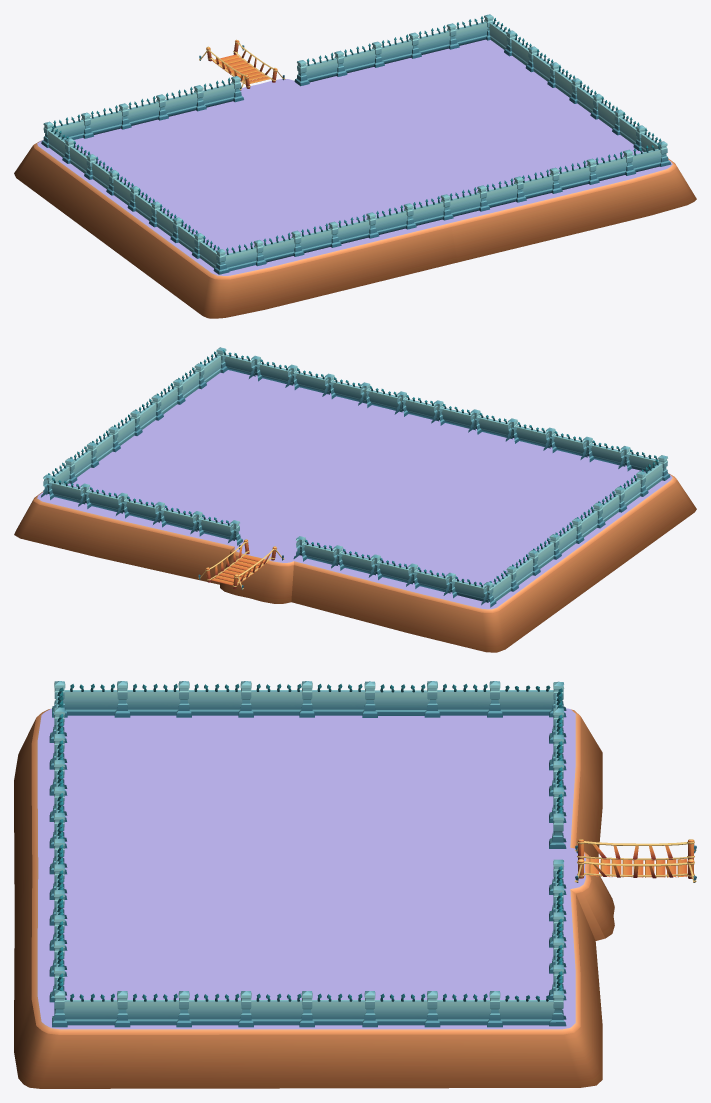
Rendered from HUB_floor_scaled_v01.fbx.
3 views of the same model, one above another, from view 1: azimuth 30°, elevation 25°; view 2: azimuth 150°, elevation 25°; view 3: azimuth 270°, elevation 25° (orthographic). The views are drawn at different scales.
Parts seen in each view (by area): view 1: HUB_floor_v02, Bridge, Walls_.006, Walls_.001, Walls_.003, Walls_.008, Walls_.029, Walls_.031, Walls_.002, Walls_.027, Walls_.005, Walls_.028 (+28 smaller); view 2: HUB_floor_v02, Bridge, Walls_.001, Walls_.006, Walls_.003, Walls_.005, Walls_.008, Walls_.010, Walls_.002, Walls_.029, Walls_.035, Walls_.031 (+27 smaller); view 3: HUB_floor_v02, Bridge, Walls_.026, Walls_.022, Walls_.014, Walls_.020, Walls_.013, Walls_.019, Walls_.012, Walls_.021, Walls_.016, Walls_.011 (+8 smaller).
Part boxes in pixels (<box>): HUB_floor_v02: <box>14,39,696,318</box>; Bridge: <box>199,39,285,90</box>; Walls_.006: <box>294,50,347,86</box>; Walls_.001: <box>41,112,93,147</box>; Walls_.003: <box>164,85,206,116</box>; Walls_.008: <box>417,23,459,54</box>; Walls_.029: <box>337,212,379,243</box>; Walls_.031: <box>262,230,304,262</box>; Walls_.002: <box>202,76,243,107</box>; Walls_.027: <box>224,240,266,271</box>; Walls_.005: <box>89,103,131,134</box>; Walls_.028: <box>375,203,416,234</box>; HUB_floor_v02: <box>14,370,696,652</box>; Bridge: <box>198,539,284,589</box>; Walls_.001: <box>443,572,496,607</box>; Walls_.006: <box>190,511,242,545</box>; Walls_.003: <box>331,545,375,575</box>; Walls_.005: <box>406,563,450,593</box>; Walls_.008: <box>78,483,122,513</box>; Walls_.010: <box>153,501,197,531</box>; Walls_.002: <box>293,536,337,565</box>; Walls_.029: <box>505,418,550,448</box>; Walls_.035: <box>249,355,293,385</box>; Walls_.031: <box>580,436,625,466</box>; HUB_floor_v02: <box>14,708,614,1088</box>; Bridge: <box>574,839,696,882</box>; Walls_.026: <box>52,991,118,1027</box>; Walls_.022: <box>299,991,366,1027</box>; Walls_.014: <box>299,681,366,717</box>; Walls_.020: <box>424,991,491,1027</box>; Walls_.013: <box>362,681,429,717</box>; Walls_.019: <box>487,991,554,1027</box>; Walls_.012: <box>424,681,491,717</box>; Walls_.021: <box>362,991,428,1027</box>; Walls_.016: <box>176,681,242,717</box>; Walls_.011: <box>487,681,554,717</box>.
Size of the model in its own units: 9988 by 1081 by 8347.
